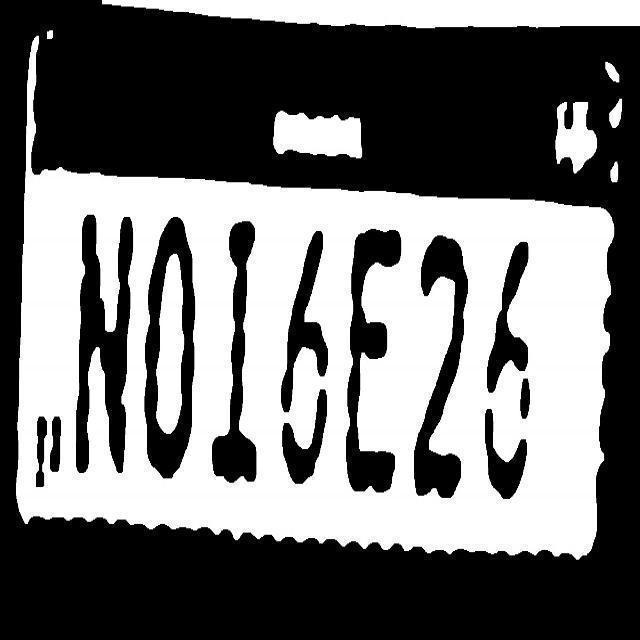2: (408, 222, 469, 502)
6: (481, 214, 536, 514), (278, 205, 330, 488)
e: (340, 218, 404, 504)
i: (210, 211, 259, 491)
n: (72, 209, 134, 484)
o: (142, 204, 196, 478)
